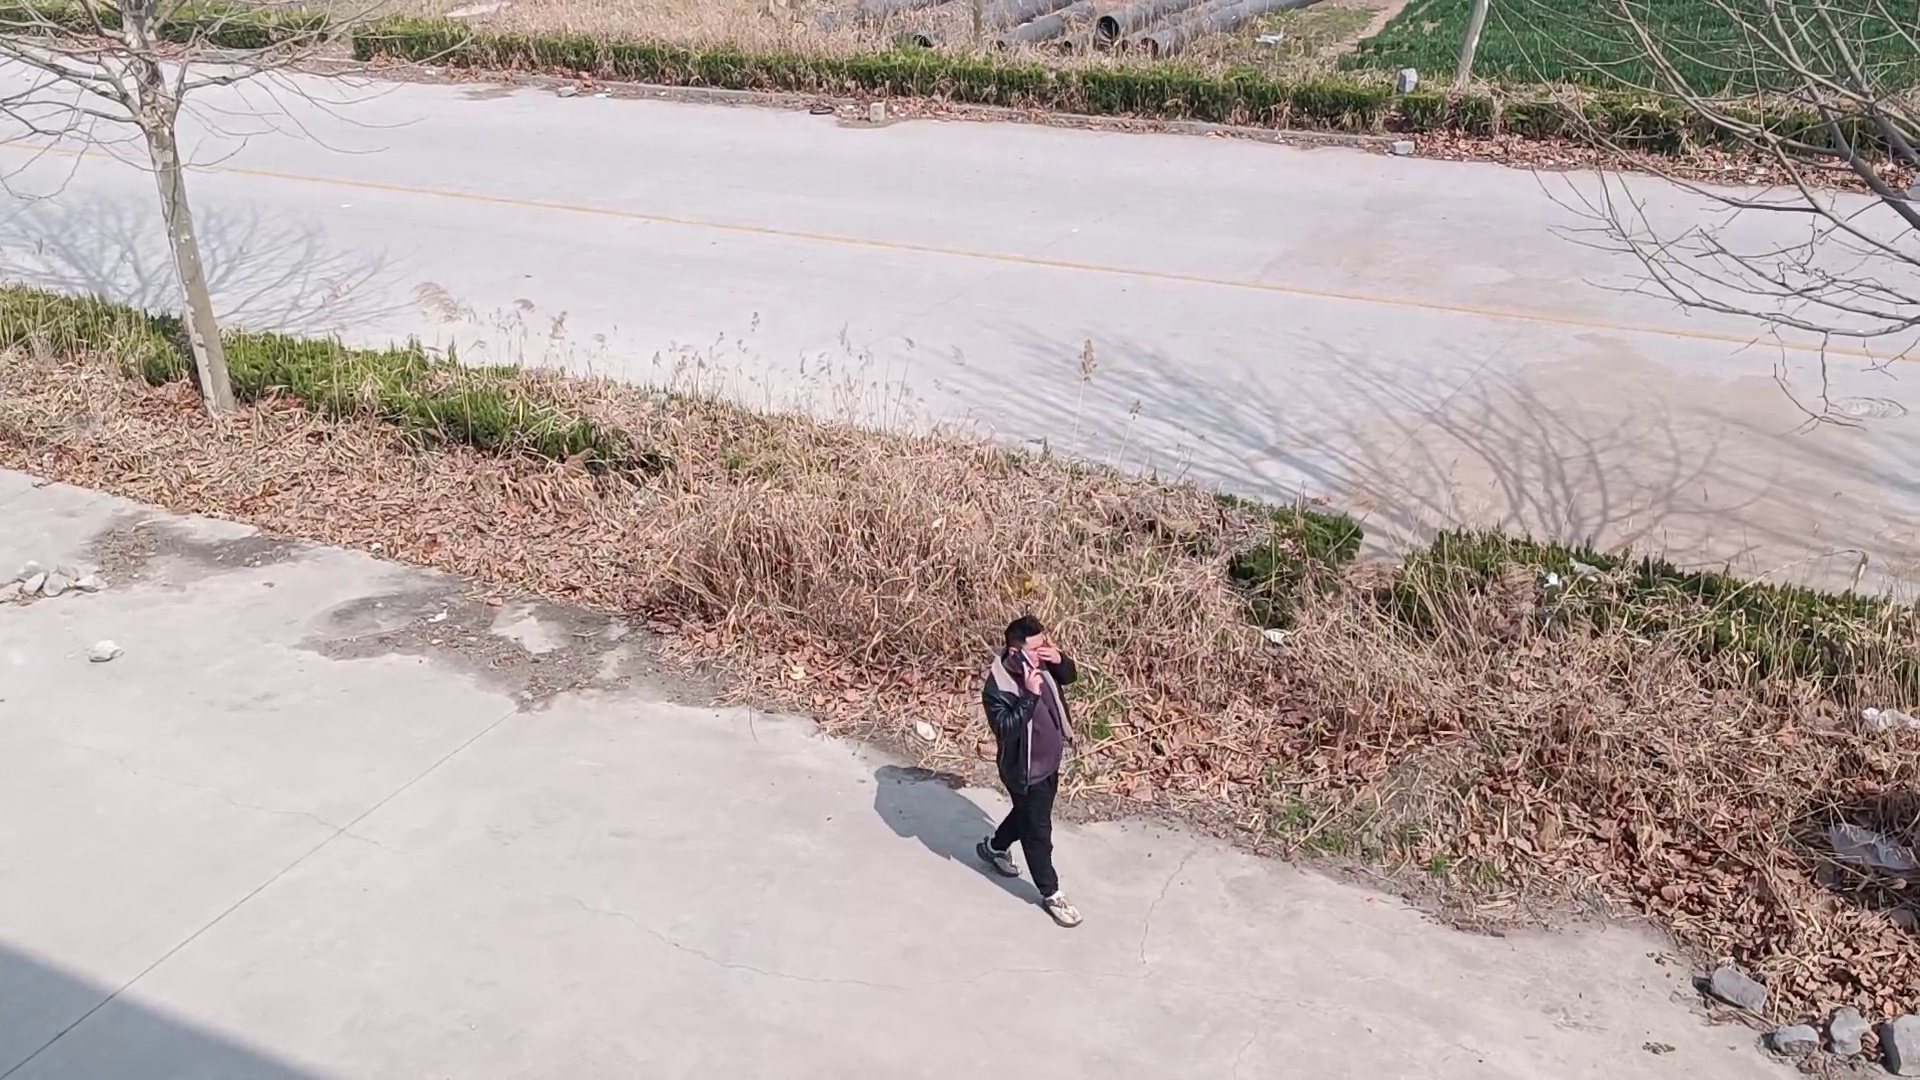phone: (997, 618, 1065, 687)
